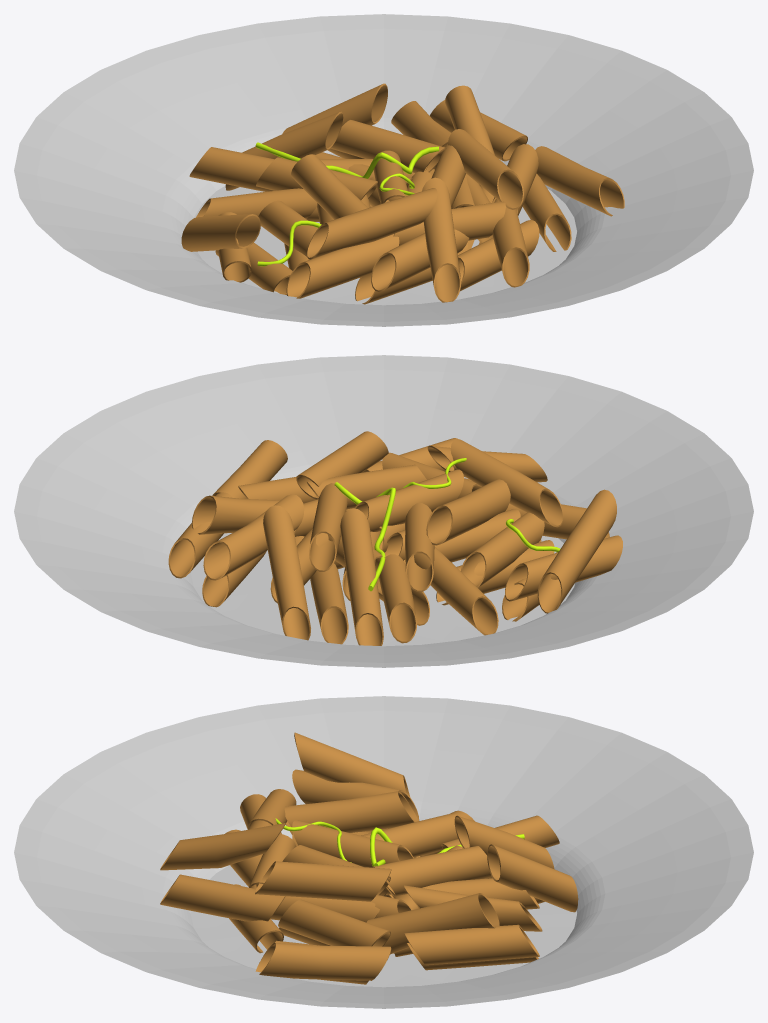
Rendered from pasta.obj.
3 views of the same model, one above another, from view 1: azimuth 30°, elevation 25°; view 2: azimuth 150°, elevation 25°; view 3: azimuth 270°, elevation 25° (orthographic).
Visible parts, largest first — view 1: Cylinder001, Cylinder037, Cylinder036, Cylinder038, Cylinder017, Cylinder046, Cylinder043, Cylinder045, Cylinder044, Cylinder033, Cylinder039, Cylinder049 (+18 smaller); view 2: Cylinder001, Cylinder049, Cylinder045, Cylinder023, Cylinder037, Cylinder044, Cylinder041, Cylinder026, Cylinder042, Cylinder035, Cylinder043, Cylinder031 (+19 smaller); view 3: Cylinder001, Cylinder017, Cylinder043, Cylinder024, Cylinder018, Cylinder044, Cylinder025, Cylinder038, Cylinder046, Cylinder023, Cylinder016, Cylinder045 (+15 smaller).
Boxes of the visible parts, x1,y1,x2,y2 form: Cylinder001: (14, 14, 753, 326); Cylinder037: (307, 188, 437, 259); Cylinder036: (286, 234, 399, 298); Cylinder038: (422, 177, 460, 302); Cylinder017: (535, 146, 624, 216); Cylinder046: (330, 120, 446, 173); Cylinder043: (448, 129, 523, 209); Cylinder045: (181, 214, 260, 251); Cylinder044: (291, 154, 367, 219); Cylinder033: (189, 147, 274, 191); Cylinder039: (371, 229, 469, 291); Cylinder049: (225, 111, 343, 190); Cylinder001: (14, 355, 753, 667); Cylinder049: (340, 508, 383, 645); Cylinder045: (537, 489, 616, 613); Cylinder023: (263, 505, 310, 640); Cylinder037: (450, 439, 563, 527); Cylinder044: (426, 479, 510, 545); Cylinder041: (203, 494, 304, 580); Cylinder026: (414, 547, 498, 635); Cylinder042: (354, 469, 463, 531); Cylinder035: (461, 512, 544, 587); Cylinder043: (296, 431, 388, 499); Cylinder031: (505, 535, 622, 601); Cylinder001: (14, 696, 753, 1008); Cylinder017: (255, 943, 391, 980); Cylinder043: (255, 861, 391, 901); Cylinder024: (404, 924, 539, 965); Cylinder018: (160, 874, 285, 921); Cylinder044: (284, 791, 418, 832); Cylinder025: (366, 893, 499, 954); Cylinder038: (160, 823, 285, 870); Cylinder046: (373, 846, 491, 895); Cylinder023: (487, 844, 578, 912); Cylinder016: (278, 899, 390, 946); Cylinder045: (294, 732, 409, 796).
Size of the model in its own units: 1152 by 172 by 1152.
